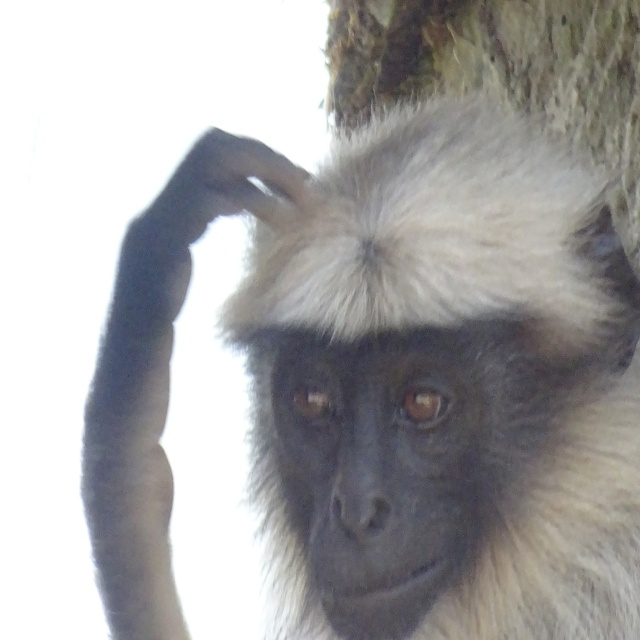Monkey: (162, 76, 640, 640)
